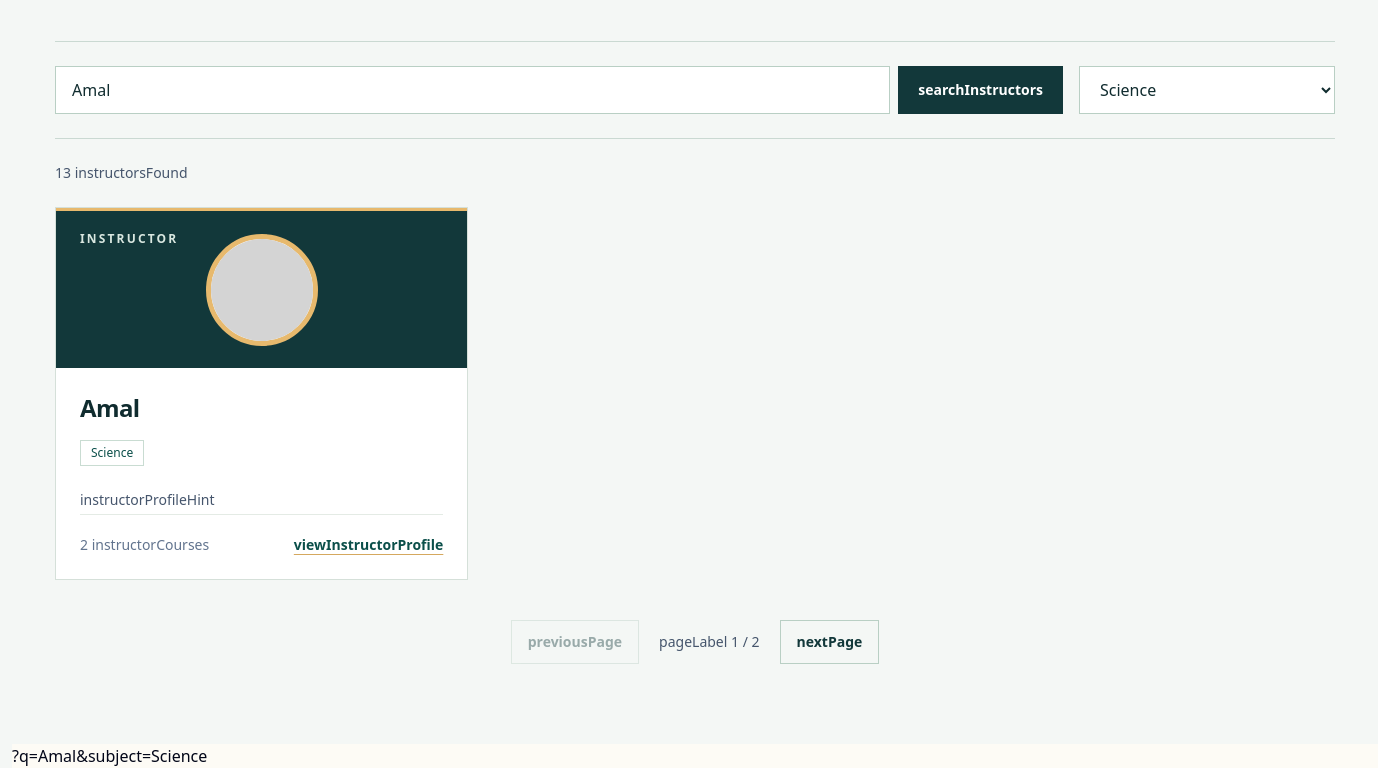
Test case: InstructorsDirectory › shows a bounded page of instructors and preserves filters while paging
(page scrolled)
Click the button "nextPage". click: click(829, 642)
box: left=780, top=620, right=879, bottom=664
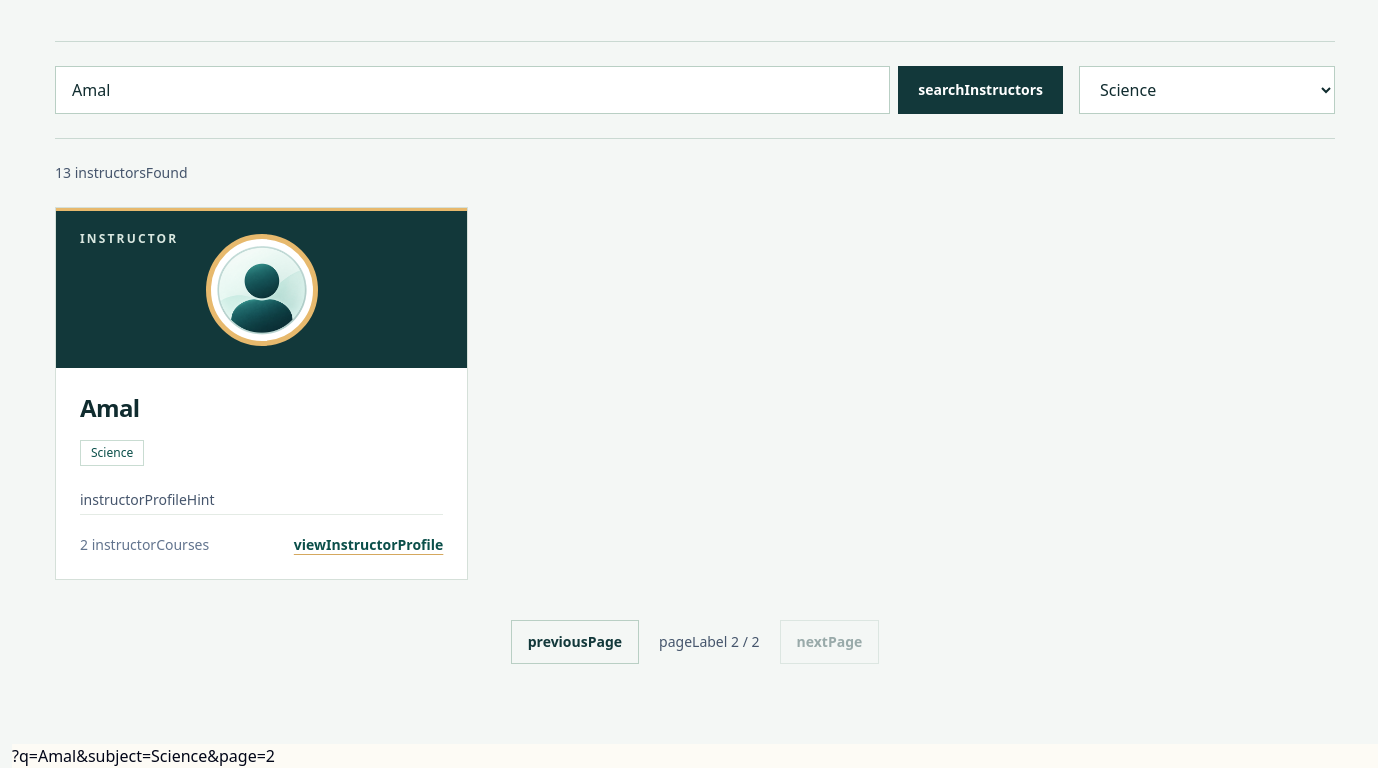
Now the text with test id "location" shows "q=Amal&subject=Science&page=2", box left=12, top=745, right=275, bottom=767
